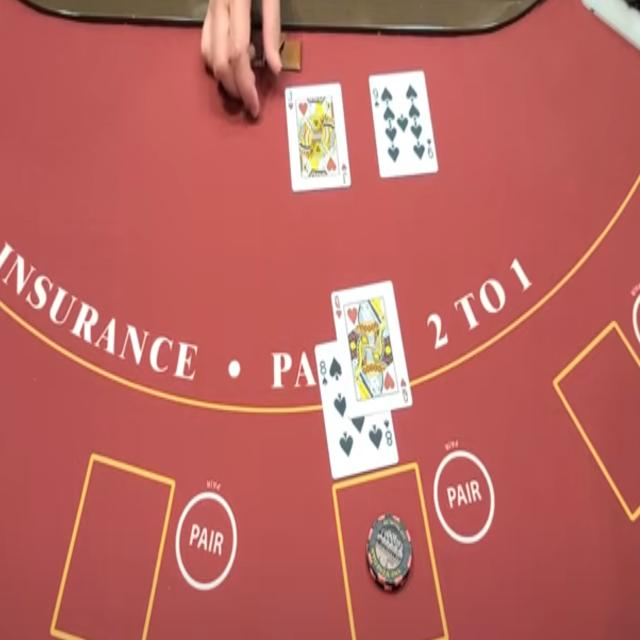8: (317, 358, 328, 376)
9: (372, 86, 380, 101)
J: (287, 89, 294, 104)
Q: (333, 292, 341, 309)
